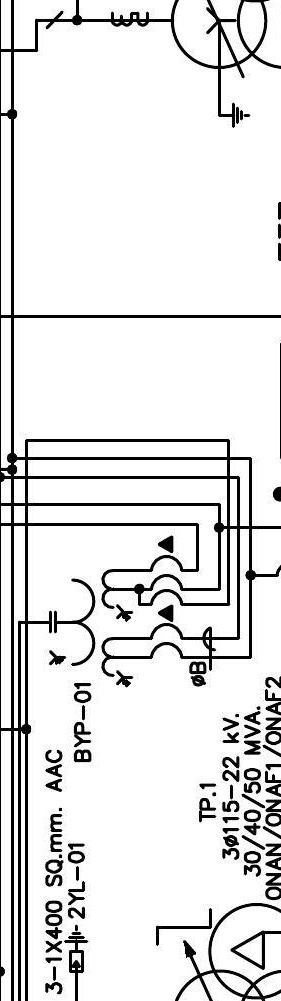115_cvt_3p: (49, 568, 134, 688)
115_la: (63, 924, 89, 973)
